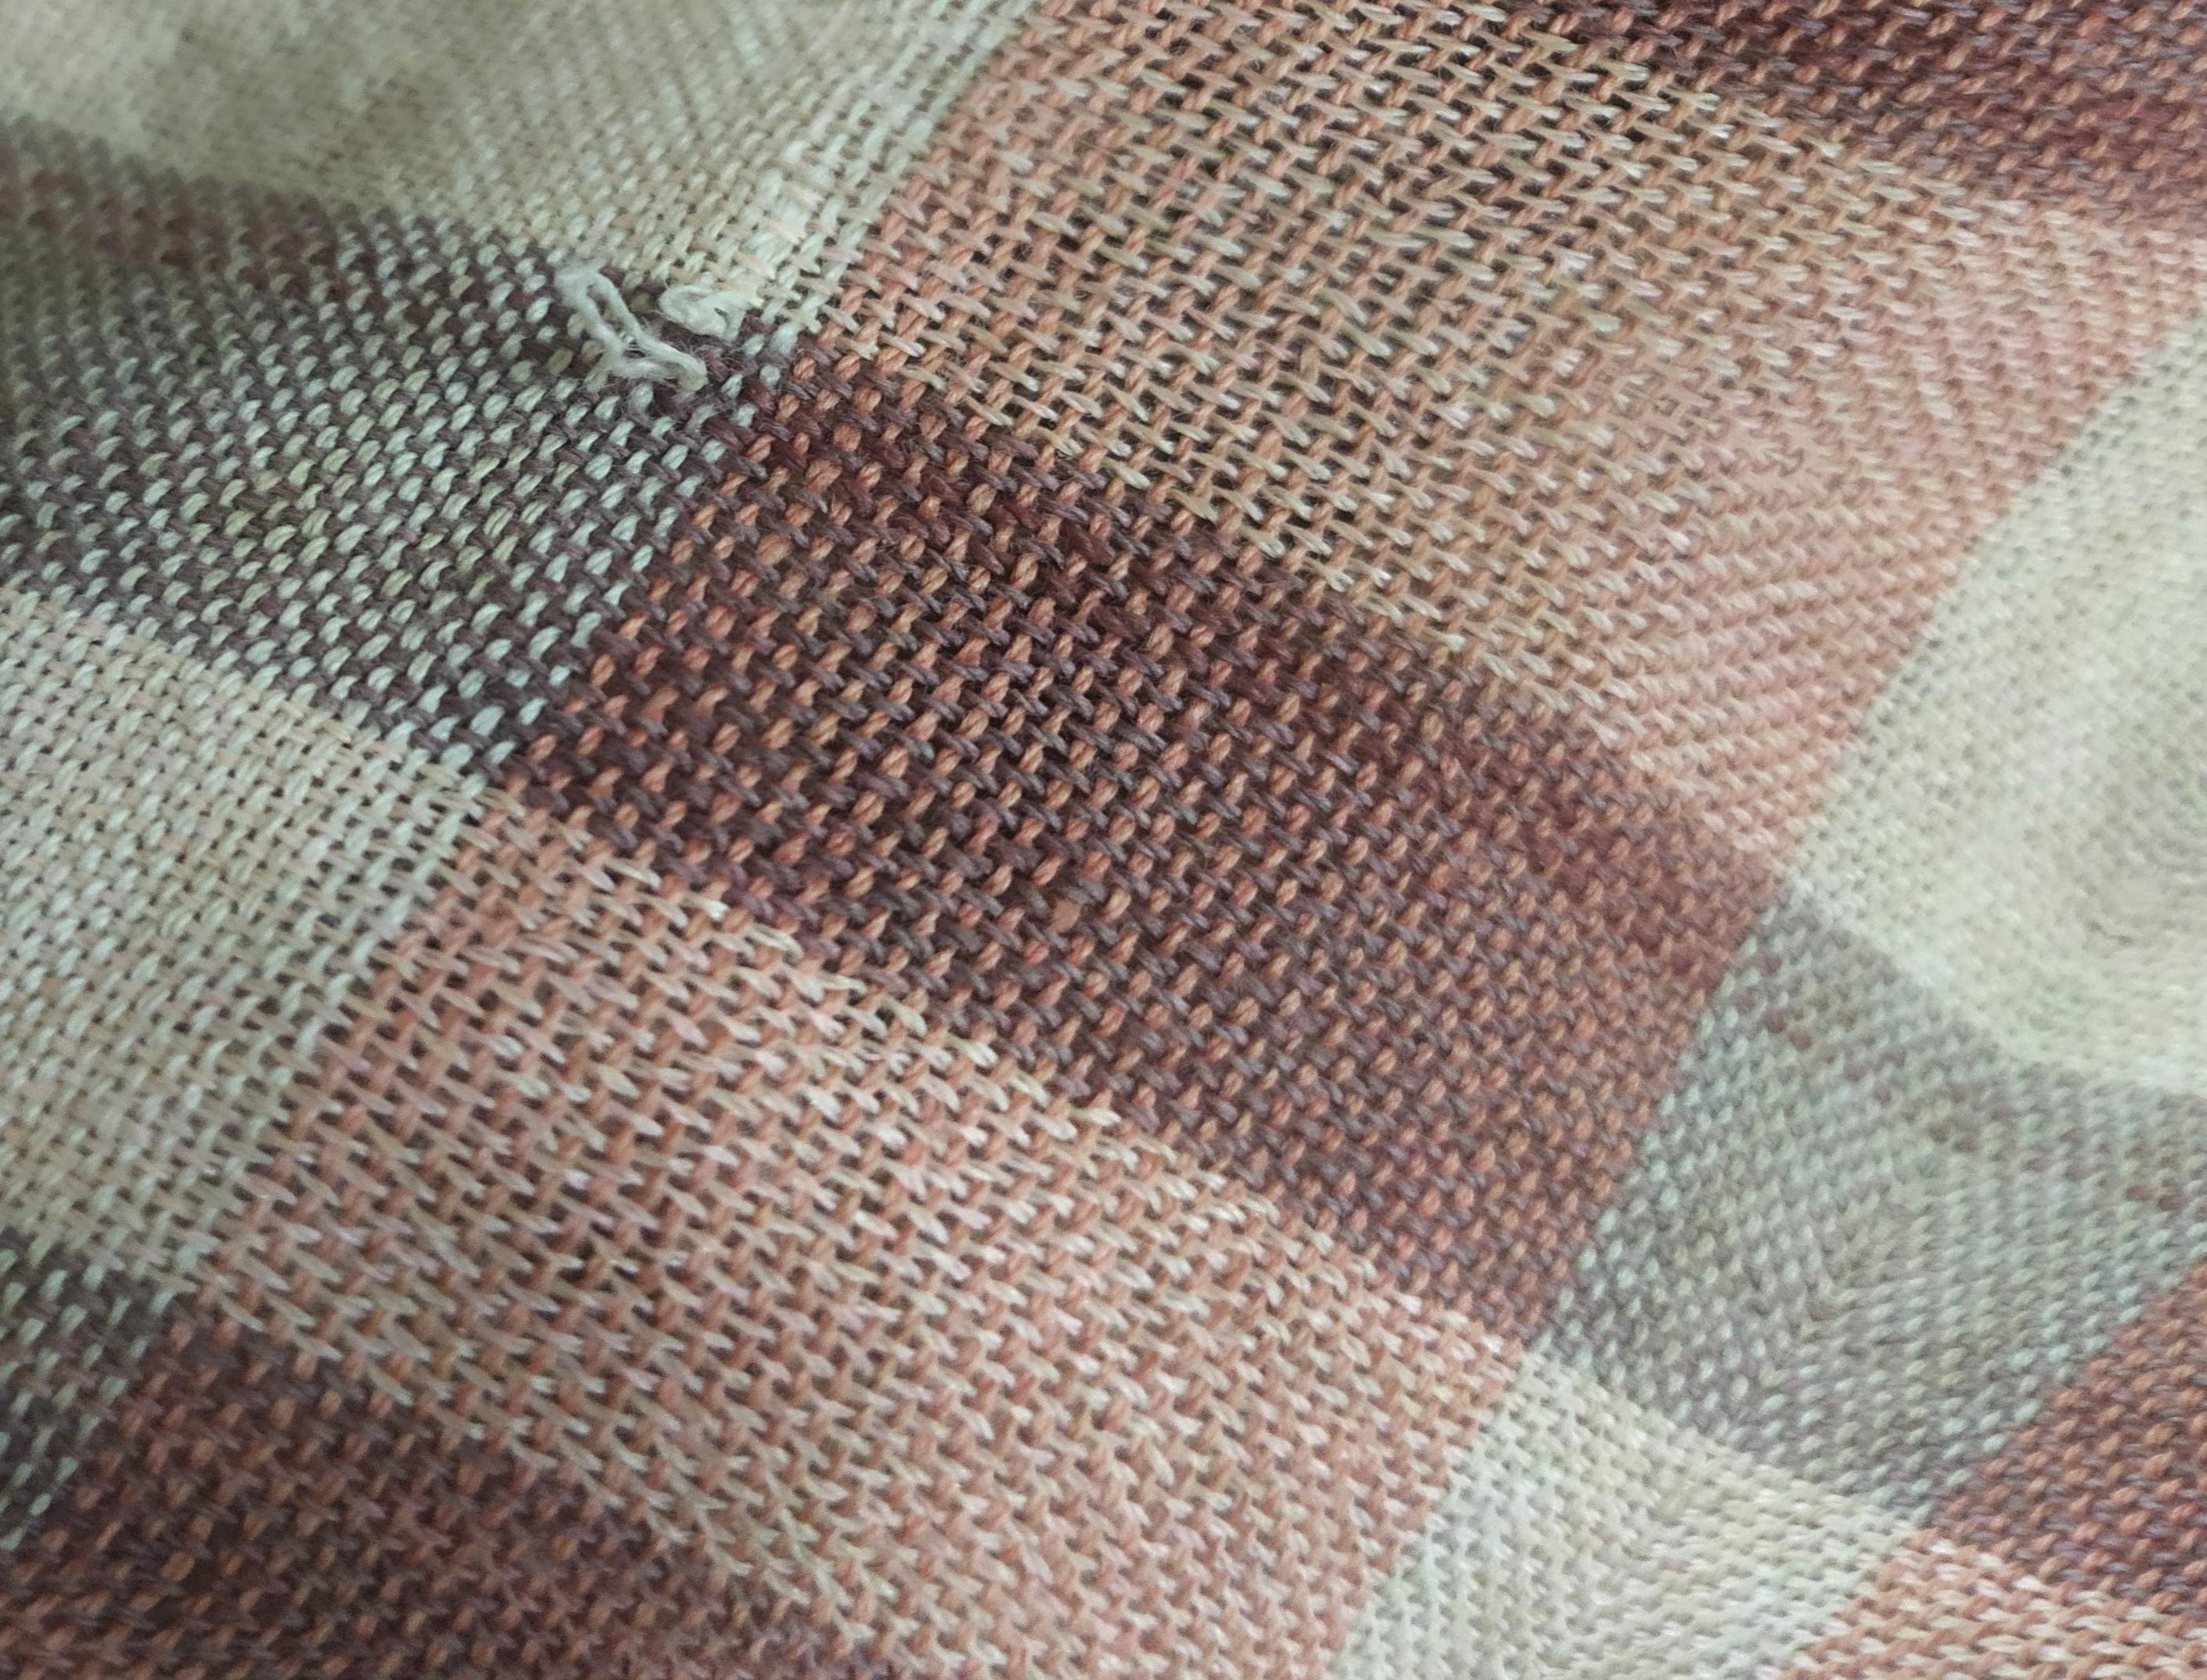snag: (547, 244, 801, 415)
